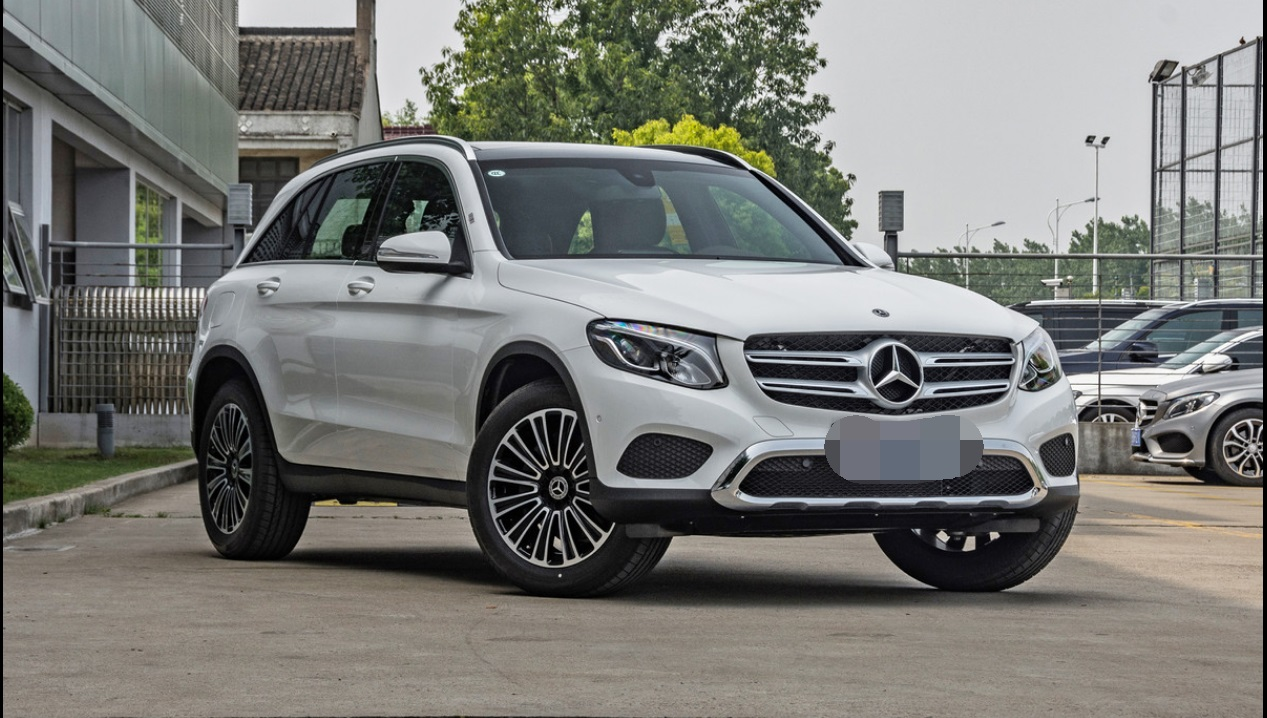SUV: (180, 133, 1087, 601)
